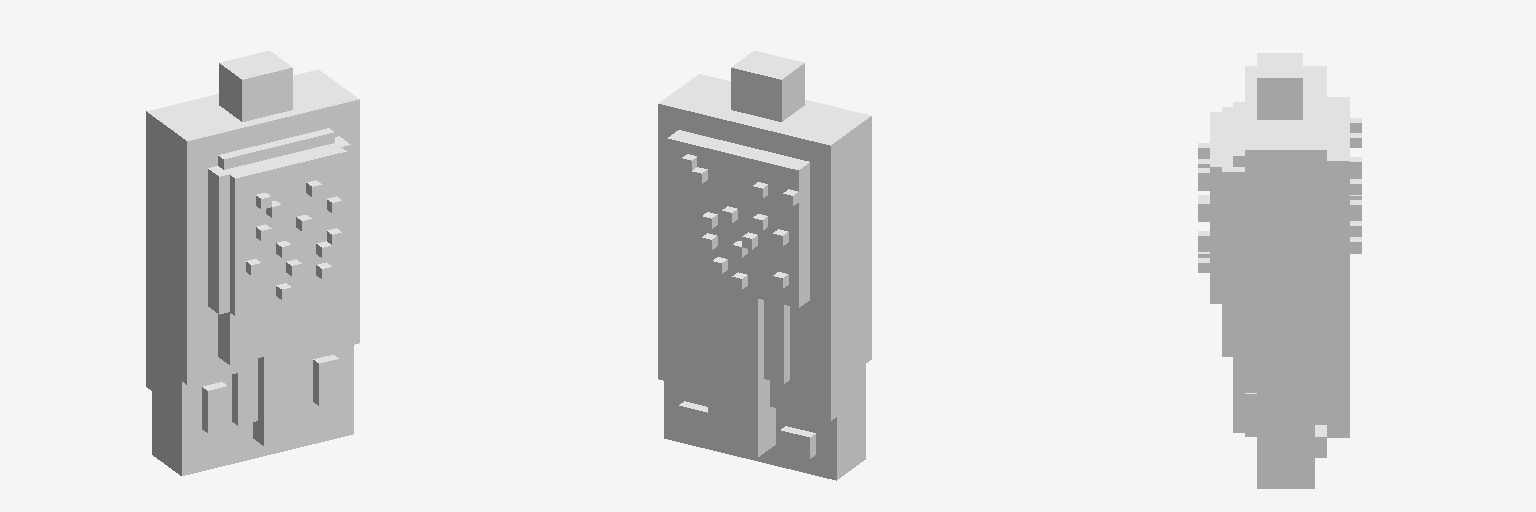
File: robot0_chest.obj
3 views of the same model, side by side, from view 1: azimuth 30°, elevation 25°; view 2: azimuth 150°, elevation 25°; view 3: azimuth 270°, elevation 25° (orthographic).
Visible parts, largest first — view 1: robot0_chest; view 2: robot0_chest; view 3: robot0_chest.
Boxes of the visible parts, box(x1,y1,x2,y2) form: robot0_chest: box(146, 50, 359, 475); robot0_chest: box(658, 50, 871, 480); robot0_chest: box(1198, 53, 1361, 488).
Bounding box in the file's own units: 17 × 36 × 14.